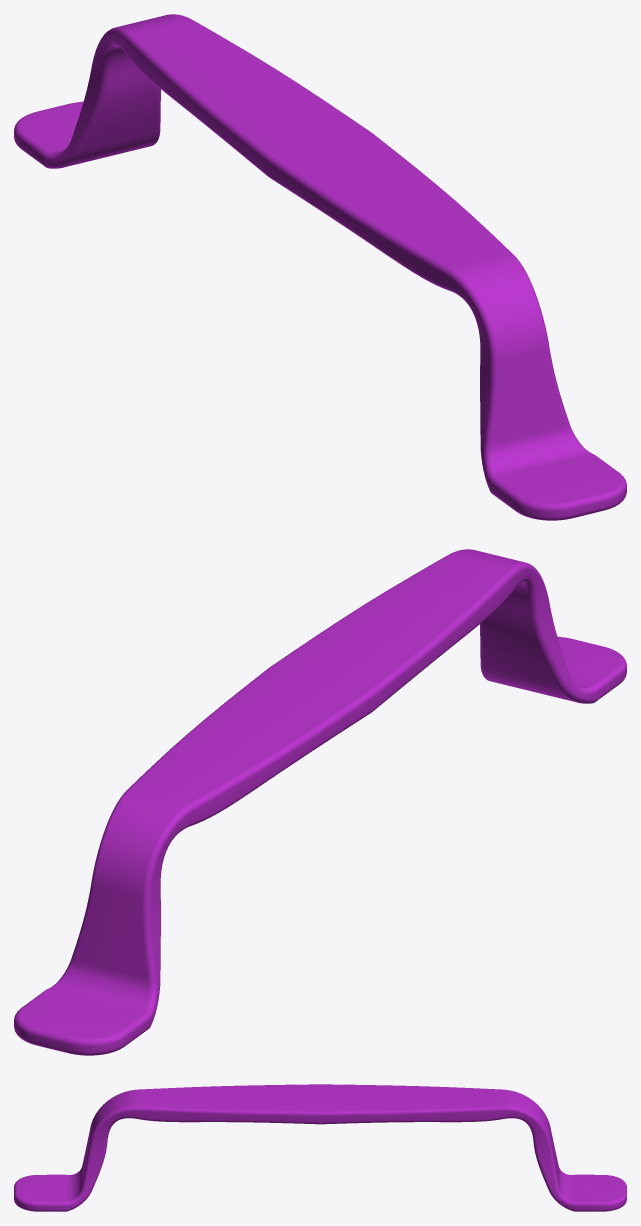
Rendered from rychka_7_1.glb.
The picture shows the model from 3 angles, top to bottom: view 1: azimuth 30°, elevation 25°; view 2: azimuth 150°, elevation 25°; view 3: azimuth 270°, elevation 25°; orthographic projection. The views are drawn at different scales.
Parts seen in each view (by area): view 1: L4.005.128BL; view 2: L4.005.128BL; view 3: L4.005.128BL.
Boxes of the visible parts, x1=… form: L4.005.128BL: x1=14, y1=14, x2=626, y2=520; L4.005.128BL: x1=14, y1=549, x2=626, y2=1055; L4.005.128BL: x1=14, y1=1084, x2=626, y2=1211.
Bounding box in the file's own units: 2 × 3.15 × 17.5.
